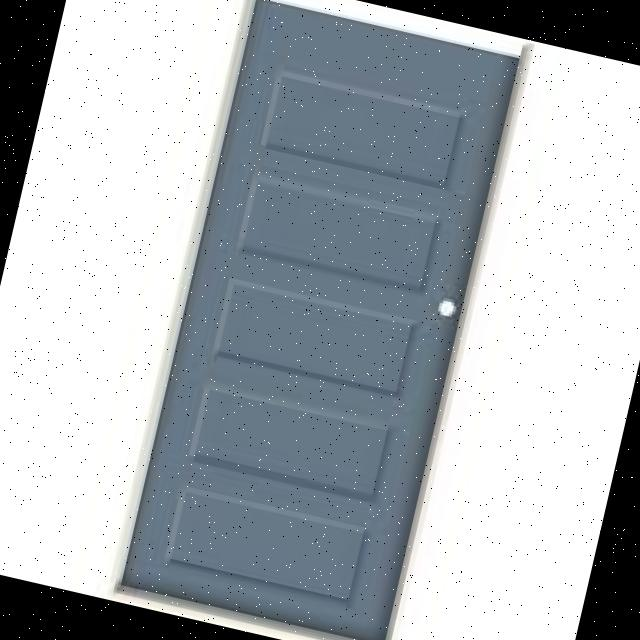Door: (106, 0, 525, 640)
